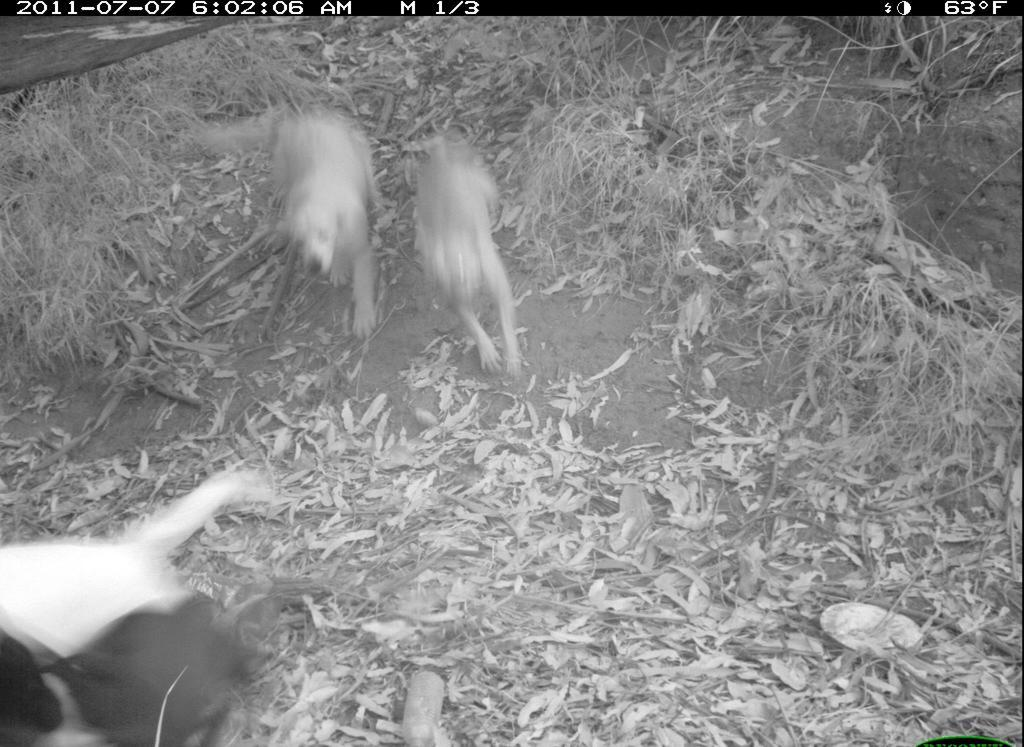dog: (1, 466, 282, 702), (198, 99, 385, 350), (404, 137, 537, 376)
